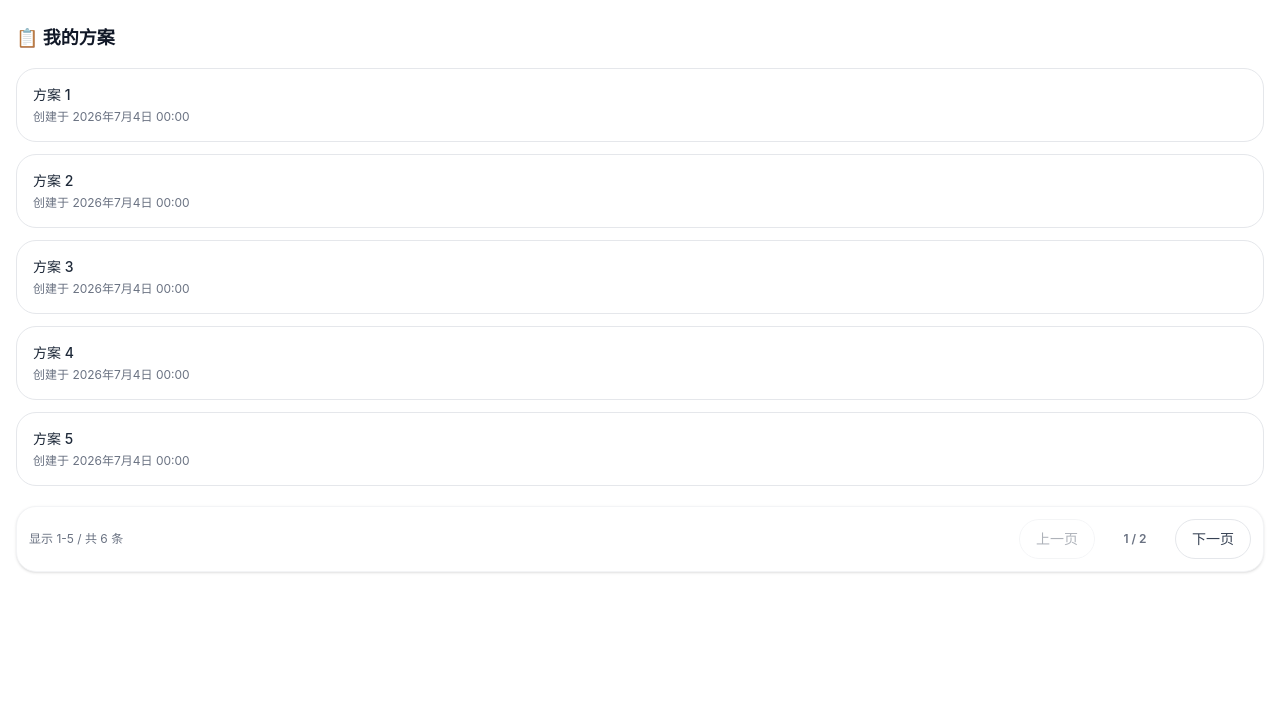
it: PlansPage › paginates plan cards locally
Expected: the heading "方案 1" is shown, [33,86,70,103]
Expected: the text "方案 6" is not shown
Click the button "下一页": (1213, 539) [1175,519,1251,559]
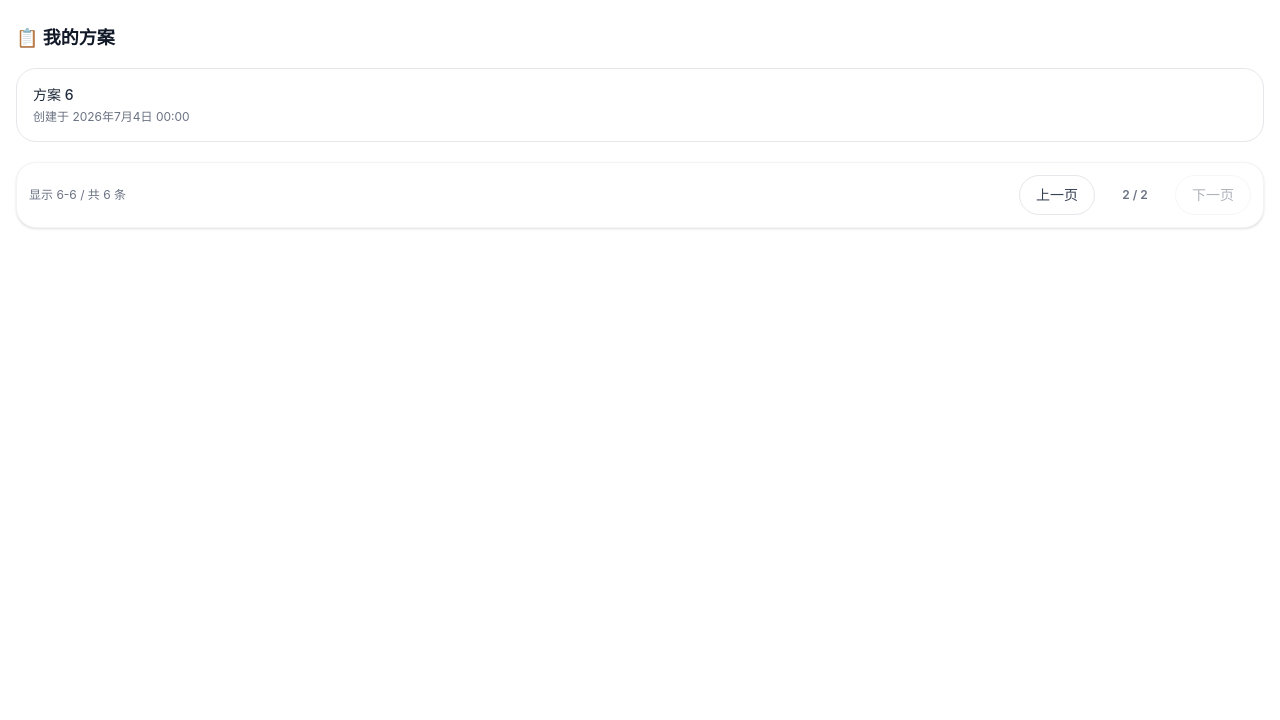
Result: the heading "方案 6" is shown at [33,86,74,103]
